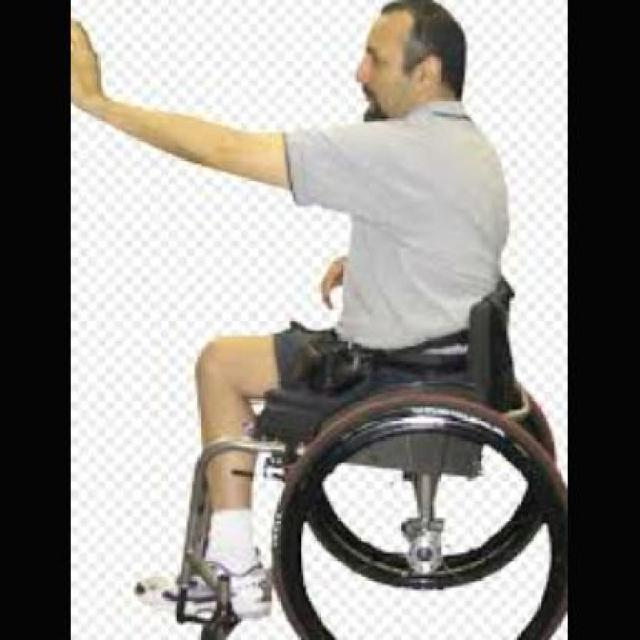wheelchairs: (124, 283, 568, 640)
